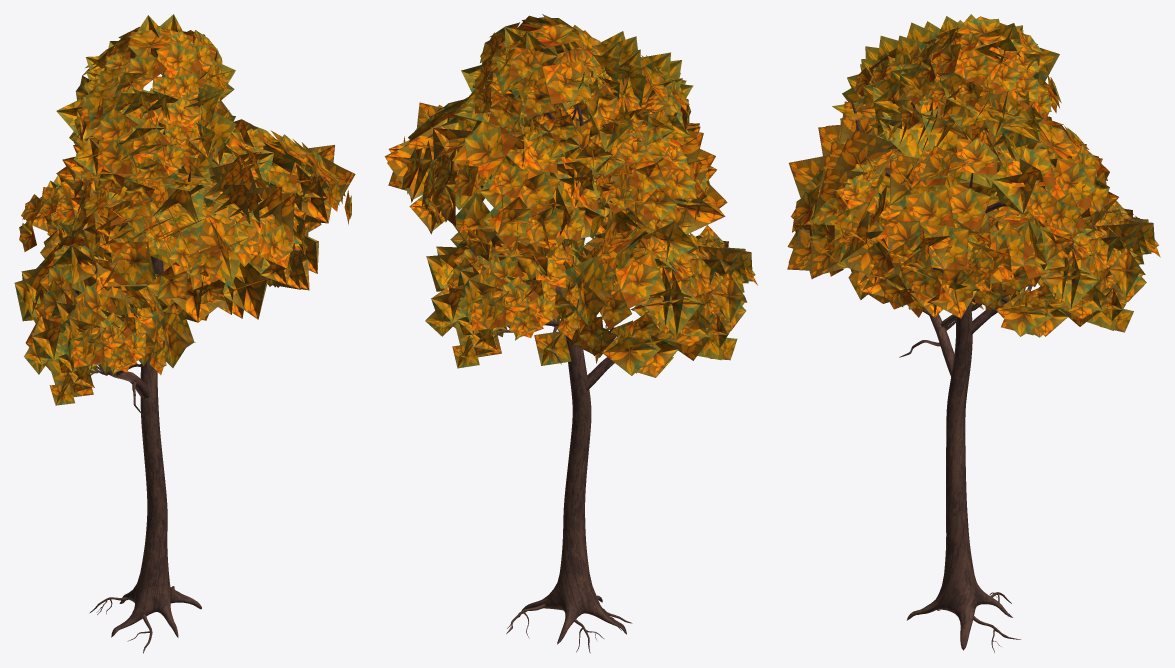
The model's file is tree.glb.
3 views of the same model, side by side, from view 1: azimuth 30°, elevation 25°; view 2: azimuth 150°, elevation 25°; view 3: azimuth 270°, elevation 25° (orthographic). The views are drawn at different scales.
Parts seen in each view (by area): view 1: Object_3, Object_2; view 2: Object_3, Object_2; view 3: Object_3.
Part boxes in pixels (box(x1,y1,x2,y2)): Object_3: box(14, 14, 355, 653); Object_2: box(86, 56, 239, 180); Object_3: box(384, 14, 757, 653); Object_2: box(436, 36, 641, 253); Object_3: box(787, 14, 1160, 652).
Size of the model in its own units: 10.85 by 19.09 by 10.43.
1 material, 1 textured.
